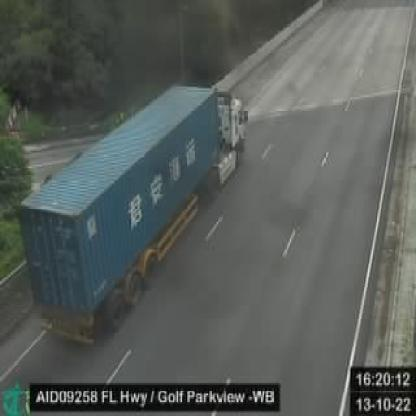Truck: (20, 81, 250, 344)
